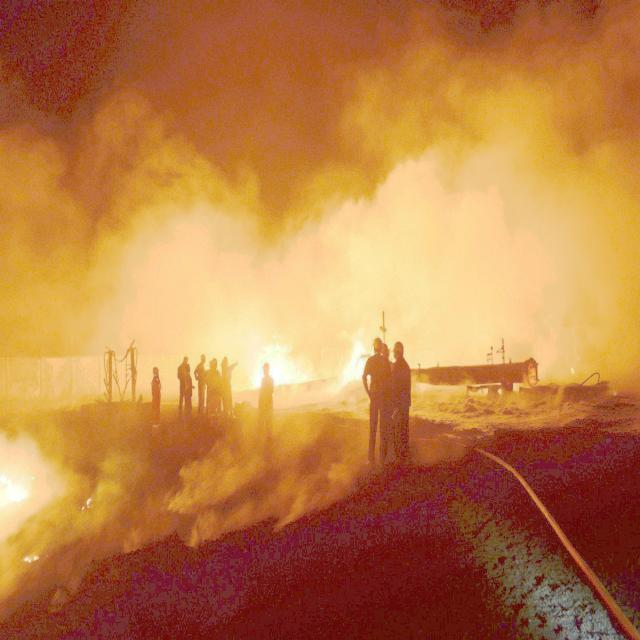api: (248, 339, 314, 394), (2, 451, 42, 513), (338, 335, 375, 391)
asap: (311, 1, 640, 393), (1, 74, 332, 408), (186, 429, 389, 557), (165, 407, 319, 512), (68, 439, 134, 562), (119, 486, 190, 556)
